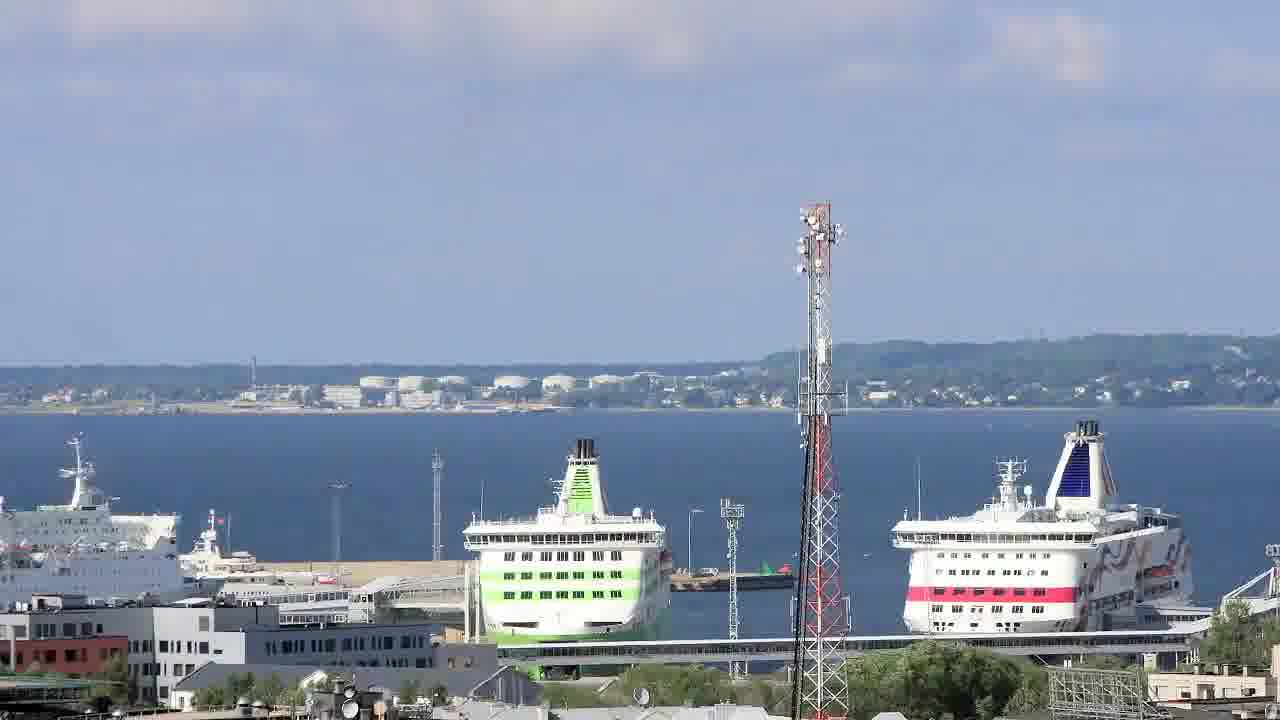type-3: (868, 415, 1225, 638), (436, 434, 694, 670), (1, 441, 225, 626), (180, 516, 386, 627)
